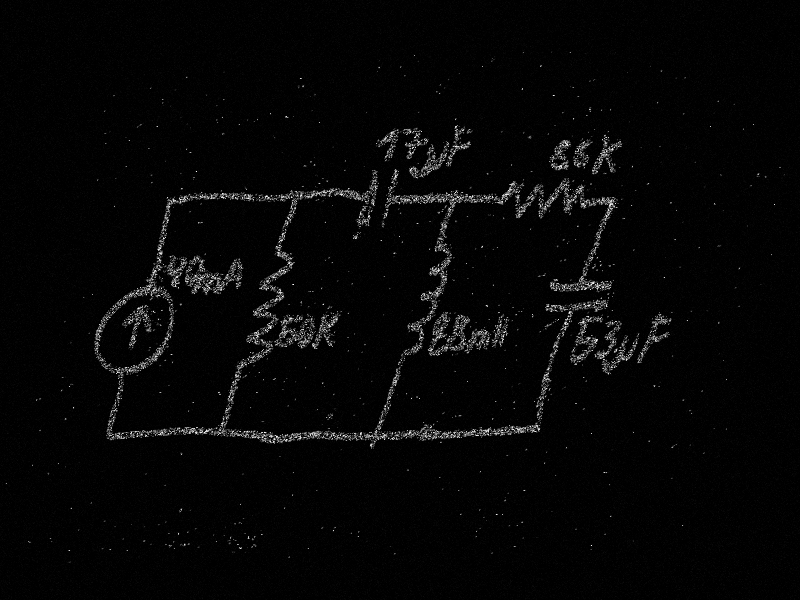0: (181, 254, 207, 289), (293, 317, 320, 349)
1: (367, 125, 403, 167)
3: (592, 319, 623, 361)
4: (160, 253, 190, 290)
5: (565, 316, 605, 366), (273, 313, 304, 349)
6: (568, 137, 596, 170)
7: (393, 126, 432, 162)
8: (423, 310, 459, 359), (444, 313, 474, 354), (545, 138, 576, 173)
A: (218, 256, 250, 295)
F: (636, 312, 677, 363), (442, 125, 477, 169)
H: (489, 315, 513, 350)
k: (590, 132, 627, 176), (310, 312, 342, 351)
m: (192, 272, 224, 296), (464, 329, 494, 352)
u: (417, 142, 450, 181), (611, 333, 642, 369)
